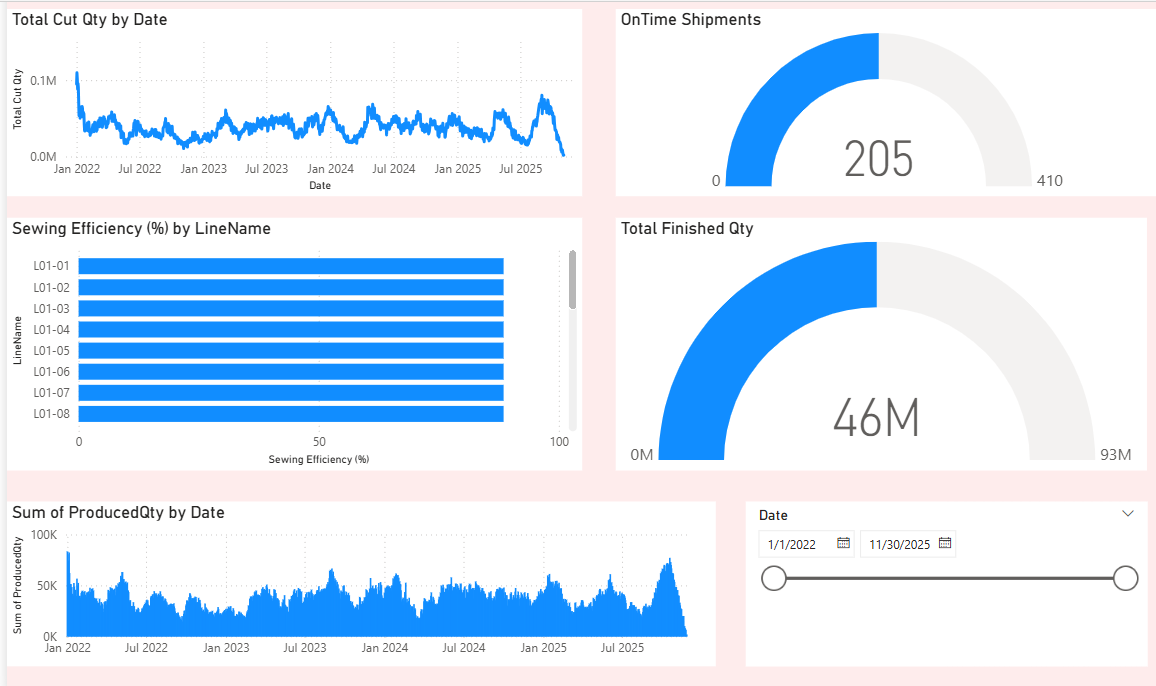

The page's visual inventory and layout, read from the dashboard file:
{"tool":"powerbi","page":{"name":"Textile Manufacturing (TMS)","canvas":[1280,720],"ordinal":1},"visuals":[{"type":"lineChart","fields":{"Category":["dim_date - dim_date.Date"],"Y":["Measure.Total Cut Qty"]},"box":[0,35,575,187.5],"z":0},{"type":"barChart","fields":{"Category":["dim_line - dim_line.LineName"],"Y":["Measure.Sewing Efficiency (%)"]},"box":[0,243.8,575,252.5],"z":1000},{"type":"columnChart","fields":{"Category":["dim_date - dim_date.Date"],"Y":["Sum(fact_production_daily - fact_production_daily.ProducedQty)"]},"box":[0,527.5,708.8,165],"z":2000},{"type":"gauge","fields":{"Y":["Measure.Total Finished Qty"]},"box":[608.8,243.8,531.2,252.5],"z":3000},{"type":"gauge","fields":{"Y":["Measure.OnTime Shipments"]},"box":[608.8,35,543.8,187.5],"z":4000},{"type":"slicer","fields":{"Values":["dim_date - dim_date.Date"]},"box":[738.8,527.5,401.2,165],"z":5000}]}

Visuals, with their boxes on the page's 1280x720 design canvas (x1, y1, x2, y2). These are canvas units, not pixel positions in the 1156x686 screenshot, which may show the page scaled, cropped or inside an application window:
lineChart - dim_date - dim_date.Date x Measure.Total Cut Qty: bbox=(0, 35, 575, 222)
barChart - dim_line - dim_line.LineName x Measure.Sewing Efficiency (%): bbox=(0, 244, 575, 496)
columnChart - dim_date - dim_date.Date x Sum(fact_production_daily - fact_production_daily.ProducedQty): bbox=(0, 528, 709, 692)
gauge - Measure.Total Finished Qty: bbox=(609, 244, 1140, 496)
gauge - Measure.OnTime Shipments: bbox=(609, 35, 1153, 222)
slicer - dim_date - dim_date.Date: bbox=(739, 528, 1140, 692)
